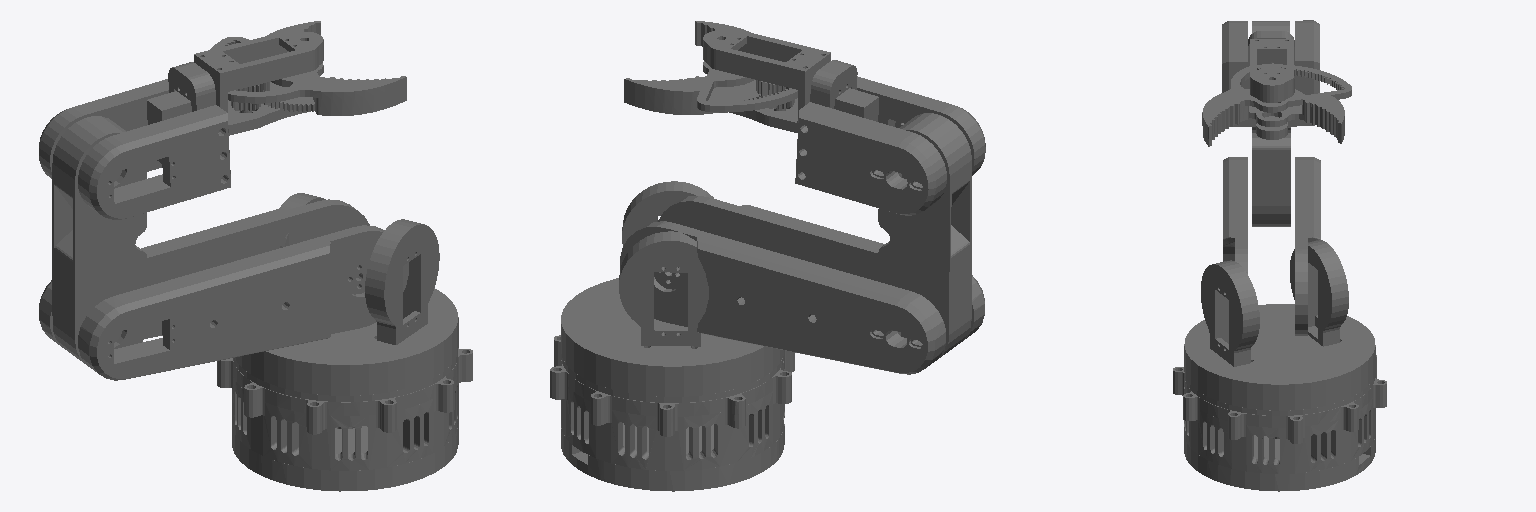
robot.urdf — joel_gauresh_urdf:
<?xml version="1.0" encoding="utf-8"?>
<!-- This URDF was automatically created by SolidWorks to URDF Exporter! Originally created by [author] ([email redacted]) 
     Commit Version: 1.5.1-0-g916b5db  Build Version: 1.5.7152.31018
     For more information, please see http://wiki.ros.org/sw_urdf_exporter -->
<robot
  name="joel_gauresh_urdf">
  <link
    name="base_link">
    <inertial>
      <origin
        xyz="-0.00030267 -0.00045453 0.030233"
        rpy="0 0 0" />
      <mass
        value="0.55521" />
      <inertia
        ixx="0.0009981"
        ixy="1.3692E-05"
        ixz="2.7862E-07"
        iyy="0.0010057"
        iyz="6.0539E-07"
        izz="0.001945" />
    </inertial>
    <visual>
      <origin
        xyz="0 0 0"
        rpy="0 0 0" />
      <geometry>
        <mesh
          filename="package://joel_gauresh_urdf/meshes/base_link.STL" />
      </geometry>
      <material
        name="">
        <color
          rgba="0.50196 0.50196 0.50196 1" />
      </material>
    </visual>
    <collision>
      <origin
        xyz="0 0 0"
        rpy="0 0 0" />
      <geometry>
        <mesh
          filename="package://joel_gauresh_urdf/meshes/base_link.STL" />
      </geometry>
    </collision>
  </link>
  <link
    name="shoulder_link1">
    <inertial>
      <origin
        xyz="-0.00093144 0.02883 0.00062509"
        rpy="0 0 0" />
      <mass
        value="0.36846" />
      <inertia
        ixx="0.00058065"
        ixy="9.1504E-08"
        ixz="-1.601E-05"
        iyy="0.0010185"
        iyz="1.6871E-07"
        izz="0.00055982" />
    </inertial>
    <visual>
      <origin
        xyz="0 0 0"
        rpy="0 0 0" />
      <geometry>
        <mesh
          filename="package://joel_gauresh_urdf/meshes/shoulder_link1.STL" />
      </geometry>
      <material
        name="">
        <color
          rgba="0.50196 0.50196 0.50196 1" />
      </material>
    </visual>
    <collision>
      <origin
        xyz="0 0 0"
        rpy="0 0 0" />
      <geometry>
        <mesh
          filename="package://joel_gauresh_urdf/meshes/shoulder_link1.STL" />
      </geometry>
    </collision>
  </link>
  <joint
    name="shoulder_joint1"
    type="revolute">
    <origin
      xyz="0 0 0.06525"
      rpy="1.5708 0 1.5708" />
    <parent
      link="base_link" />
    <child
      link="shoulder_link1" />
    <axis
      xyz="0 0 0" />
    <limit
      lower="0"
      upper="6.28"
      effort="0"
      velocity="0" />
  </joint>
  <link
    name="shoulder_link2">
    <inertial>
      <origin
        xyz="-0.01738 2.3564E-14 0.093249"
        rpy="0 0 0" />
      <mass
        value="0.45423" />
      <inertia
        ixx="0.0018458"
        ixy="7.6625E-13"
        ixz="-1.5935E-06"
        iyy="0.0017096"
        iyz="1.2654E-13"
        izz="0.00016523" />
    </inertial>
    <visual>
      <origin
        xyz="0 0 0"
        rpy="0 0 0" />
      <geometry>
        <mesh
          filename="package://joel_gauresh_urdf/meshes/shoulder_link2.STL" />
      </geometry>
      <material
        name="">
        <color
          rgba="0.50196 0.50196 0.50196 1" />
      </material>
    </visual>
    <collision>
      <origin
        xyz="0 0 0"
        rpy="0 0 0" />
      <geometry>
        <mesh
          filename="package://joel_gauresh_urdf/meshes/shoulder_link2.STL" />
      </geometry>
    </collision>
  </link>
  <joint
    name="shoulder_joint2"
    type="revolute">
    <origin
      xyz="0.011779 0.07 -0.0063887"
      rpy="3.1402 0 0" />
    <parent
      link="shoulder_link1" />
    <child
      link="shoulder_link2" />
    <axis
      xyz="0 0 0" />
    <limit
      lower="0"
      upper="3.14"
      effort="300"
      velocity="3" />
  </joint>
  <link
    name="shoulder_link3">
    <inertial>
      <origin
        xyz="0.00011307 -0.00070715 -0.057802"
        rpy="0 0 0" />
      <mass
        value="0.23343" />
      <inertia
        ixx="0.00057111"
        ixy="-1.8665E-08"
        ixz="2.5014E-08"
        iyy="0.00053376"
        iyz="-4.6592E-06"
        izz="7.1501E-05" />
    </inertial>
    <visual>
      <origin
        xyz="0 0 0"
        rpy="0 0 0" />
      <geometry>
        <mesh
          filename="package://joel_gauresh_urdf/meshes/shoulder_link3.STL" />
      </geometry>
      <material
        name="">
        <color
          rgba="0.50196 0.50196 0.50196 1" />
      </material>
    </visual>
    <collision>
      <origin
        xyz="0 0 0"
        rpy="0 0 0" />
      <geometry>
        <mesh
          filename="package://joel_gauresh_urdf/meshes/shoulder_link3.STL" />
      </geometry>
    </collision>
  </link>
  <joint
    name="shoulder_joint3"
    type="revolute">
    <origin
      xyz="-0.0184 0 0.185"
      rpy="1.5708 0 3.1402" />
    <parent
      link="shoulder_link2" />
    <child
      link="shoulder_link3" />
    <axis
      xyz="0 0 0" />
    <limit
      lower="-1.396"
      upper="3.84"
      effort="300"
      velocity="3" />
  </joint>
  <link
    name="shoulder_link4">
    <inertial>
      <origin
        xyz="-0.016476 0.0041063 0.039356"
        rpy="0 0 0" />
      <mass
        value="0.23704" />
      <inertia
        ixx="0.000232"
        ixy="1.2542E-08"
        ixz="2.5141E-07"
        iyy="0.0001751"
        iyz="-4.9175E-06"
        izz="7.8002E-05" />
    </inertial>
    <visual>
      <origin
        xyz="0 0 0"
        rpy="0 0 0" />
      <geometry>
        <mesh
          filename="package://joel_gauresh_urdf/meshes/shoulder_link4.STL" />
      </geometry>
      <material
        name="">
        <color
          rgba="0.50196 0.50196 0.50196 1" />
      </material>
    </visual>
    <collision>
      <origin
        xyz="0 0 0"
        rpy="0 0 0" />
      <geometry>
        <mesh
          filename="package://joel_gauresh_urdf/meshes/shoulder_link4.STL" />
      </geometry>
    </collision>
  </link>
  <joint
    name="shoulder_joint4"
    type="revolute">
    <origin
      xyz="-0.0184 0 -0.1175"
      rpy="-1.5708 0 3.1402" />
    <parent
      link="shoulder_link3" />
    <child
      link="shoulder_link4" />
    <axis
      xyz="0 0 0" />
    <limit
      lower="-0.785"
      upper="3.229"
      effort="300"
      velocity="3" />
  </joint>
  <link
    name="wrist_link">
    <inertial>
      <origin
        xyz="4.4966E-11 -0.01662 -0.0094006"
        rpy="0 0 0" />
      <mass
        value="0.044881" />
      <inertia
        ixx="3.5363E-05"
        ixy="-6.2306E-15"
        ixz="-6.2979E-13"
        iyy="3.8917E-05"
        iyz="1.9805E-06"
        izz="6.835E-06" />
    </inertial>
    <visual>
      <origin
        xyz="0 0 0"
        rpy="0 0 0" />
      <geometry>
        <mesh
          filename="package://joel_gauresh_urdf/meshes/wrist_link.STL" />
      </geometry>
      <material
        name="">
        <color
          rgba="0.50196 0.50196 0.50196 1" />
      </material>
    </visual>
    <collision>
      <origin
        xyz="0 0 0"
        rpy="0 0 0" />
      <geometry>
        <mesh
          filename="package://joel_gauresh_urdf/meshes/wrist_link.STL" />
      </geometry>
    </collision>
  </link>
  <joint
    name="wrist_joint"
    type="revolute">
    <origin
      xyz="-0.017896 0.013363 0.10997"
      rpy="3.1402 0 0" />
    <parent
      link="shoulder_link4" />
    <child
      link="wrist_link" />
    <axis
      xyz="0 0 0" />
    <limit
      lower="-3.1402"
      upper="3.1402"
      effort="300"
      velocity="3" />
  </joint>
  <link
    name="EndEffector_link">
    <inertial>
      <origin
        xyz="-0.0065515 0.008032 0.0073471"
        rpy="0 0 0" />
      <mass
        value="0.062706" />
      <inertia
        ixx="4.2342E-05"
        ixy="2.0214E-06"
        ixz="-7.4487E-06"
        iyy="6.6651E-05"
        iyz="3.1444E-06"
        izz="2.7585E-05" />
    </inertial>
    <visual>
      <origin
        xyz="0 0 0"
        rpy="0 0 0" />
      <geometry>
        <mesh
          filename="package://joel_gauresh_urdf/meshes/EndEffector_link.STL" />
      </geometry>
      <material
        name="">
        <color
          rgba="0.50196 0.50196 0.50196 1" />
      </material>
    </visual>
    <collision>
      <origin
        xyz="0 0 0"
        rpy="0 0 0" />
      <geometry>
        <mesh
          filename="package://joel_gauresh_urdf/meshes/EndEffector_link.STL" />
      </geometry>
    </collision>
  </link>
  <joint
    name="EndEffector_joint"
    type="revolute">
    <origin
      xyz="0 -0.021 -0.04725"
      rpy="0 0.79382 0" />
    <parent
      link="wrist_link" />
    <child
      link="EndEffector_link" />
    <axis
      xyz="0 0 0" />
    <limit
      lower="0"
      upper="0.785"
      effort="300"
      velocity="3" />
  </joint>
</robot>

--- Render facts (derived) ---
3 views of the same robot in one strip: view 1: azimuth 30°, elevation 25°; view 2: azimuth 150°, elevation 25°; view 3: azimuth 270°, elevation 25° (orthographic).
Model joel_gauresh_urdf with 7 links and 6 joints (6 revolute), rooted at base_link, posed every joint at zero.
Links seen in each view (by area): view 1: shoulder_link2, base_link, shoulder_link1, shoulder_link4, shoulder_link3, wrist_link, EndEffector_link; view 2: shoulder_link2, shoulder_link1, base_link, shoulder_link4, shoulder_link3, wrist_link, EndEffector_link; view 3: shoulder_link1, base_link, shoulder_link2, EndEffector_link, shoulder_link3, shoulder_link4, wrist_link.
Link boxes in pixels (x1,y1,x2,y2): shoulder_link2: [39, 199, 408, 380]; base_link: [217, 348, 472, 491]; shoulder_link1: [233, 193, 458, 428]; shoulder_link4: [39, 62, 230, 219]; shoulder_link3: [52, 116, 146, 363]; wrist_link: [194, 31, 323, 135]; EndEffector_link: [210, 21, 406, 115]; shoulder_link2: [620, 196, 984, 374]; shoulder_link1: [561, 181, 784, 402]; base_link: [550, 335, 794, 491]; shoulder_link4: [795, 60, 985, 215]; shoulder_link3: [878, 113, 971, 357]; wrist_link: [703, 30, 830, 132]; EndEffector_link: [624, 21, 797, 114]; shoulder_link1: [1184, 240, 1375, 438]; base_link: [1173, 355, 1386, 491]; shoulder_link2: [1223, 157, 1320, 335]; EndEffector_link: [1202, 64, 1351, 146]; shoulder_link3: [1252, 21, 1290, 226]; shoulder_link4: [1222, 20, 1319, 126]; wrist_link: [1250, 39, 1294, 139].
Size in the robot's own frame: 0.3029 by 0.1681 by 0.3057 metres.
7 mesh visuals loaded from 7 distinct referenced files (7 binary STL).
